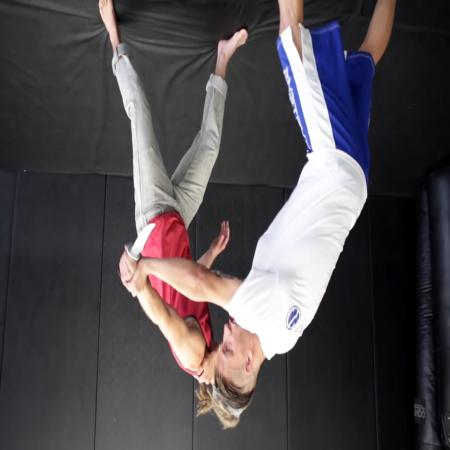long weapon: (115, 215, 159, 279)
